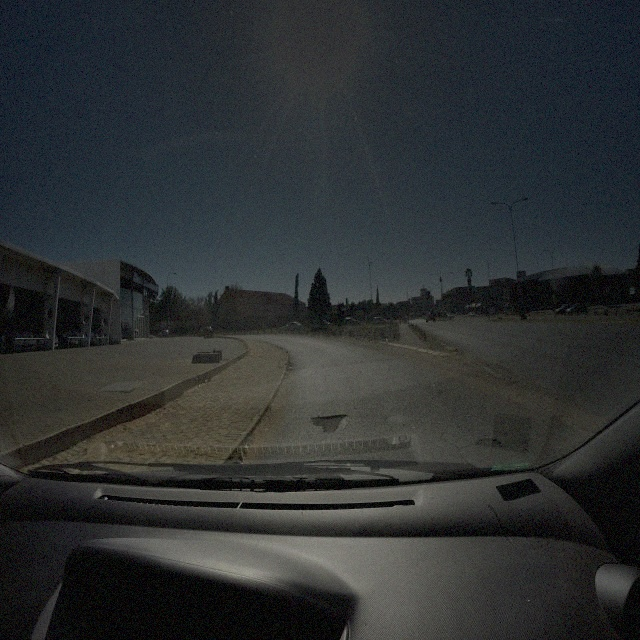pothole: (309, 411, 349, 437), (475, 432, 503, 451)
